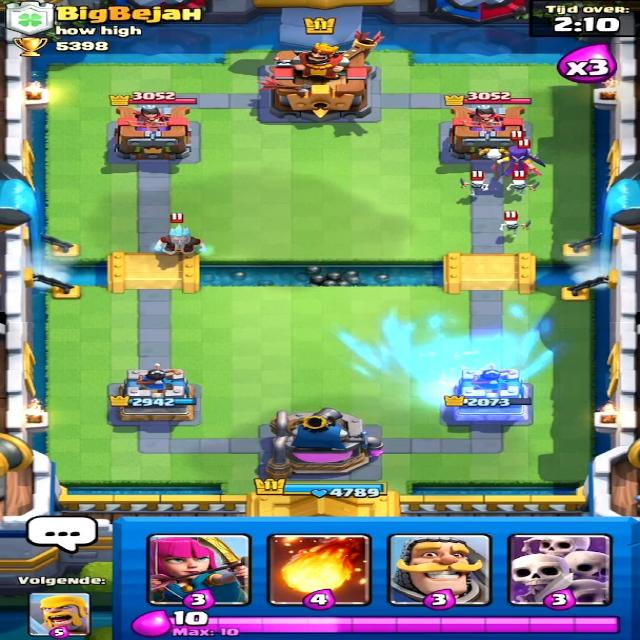Enemy_Ice_Wizard_Troop: (154, 222, 208, 267)
Enemy_Skeleton_Troop: (460, 176, 491, 198), (505, 178, 540, 194), (498, 219, 532, 235)
Enemy_Witch_Troop: (497, 145, 540, 179)
Fireball_Card: (261, 534, 370, 608)
